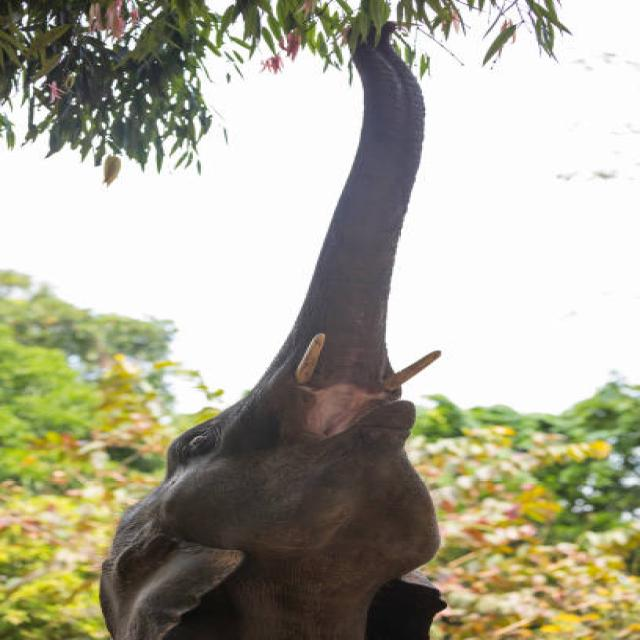Elephant: (106, 16, 503, 640)
